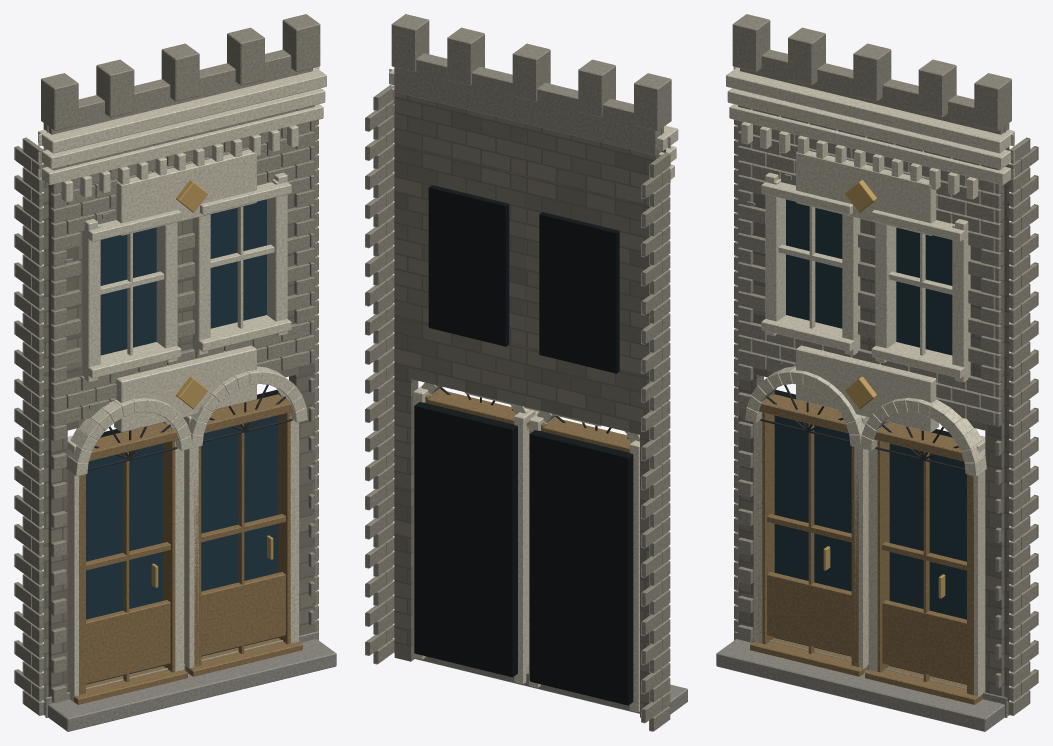
The model's file is CLSTGA21_lod0.glb.
The picture shows the model from 3 angles, left to right: view 1: azimuth 30°, elevation 25°; view 2: azimuth 150°, elevation 25°; view 3: azimuth 330°, elevation 25°; orthographic projection.
Visible parts, largest first — view 1: CLSTGA21_FRONT_LOD0; view 2: CLSTGA21_FRONT_LOD0; view 3: CLSTGA21_FRONT_LOD0.
Boxes of the visible parts, x1,y1,x2,y2 form: CLSTGA21_FRONT_LOD0: [14, 14, 336, 731]; CLSTGA21_FRONT_LOD0: [365, 14, 687, 731]; CLSTGA21_FRONT_LOD0: [716, 14, 1038, 731].
Bounding box in the file's own units: 3.44 × 7.4 × 1.02.
12 materials, 9 textured.
